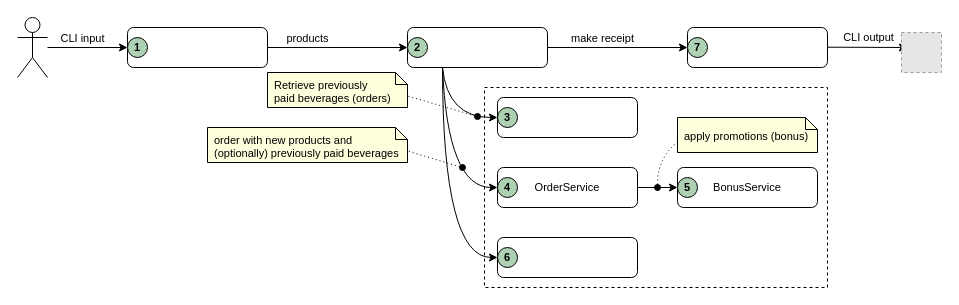
Image size: 959x305. Some labels were removed from this diagram. Grey dashed boxes stand in for pictures. Here are the shapes that lost their labels. From the top down, the box of each, then its label:
(16, 16, 48, 78): User
(126, 26, 268, 68): ProductInputHandler
(406, 26, 548, 68): OrderController
(686, 26, 828, 68): ReceiptPresenter
(496, 96, 638, 138): OrderStorage
(496, 236, 638, 278): PaymentService
